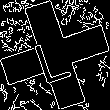L_N: (32, 26, 78, 84)
